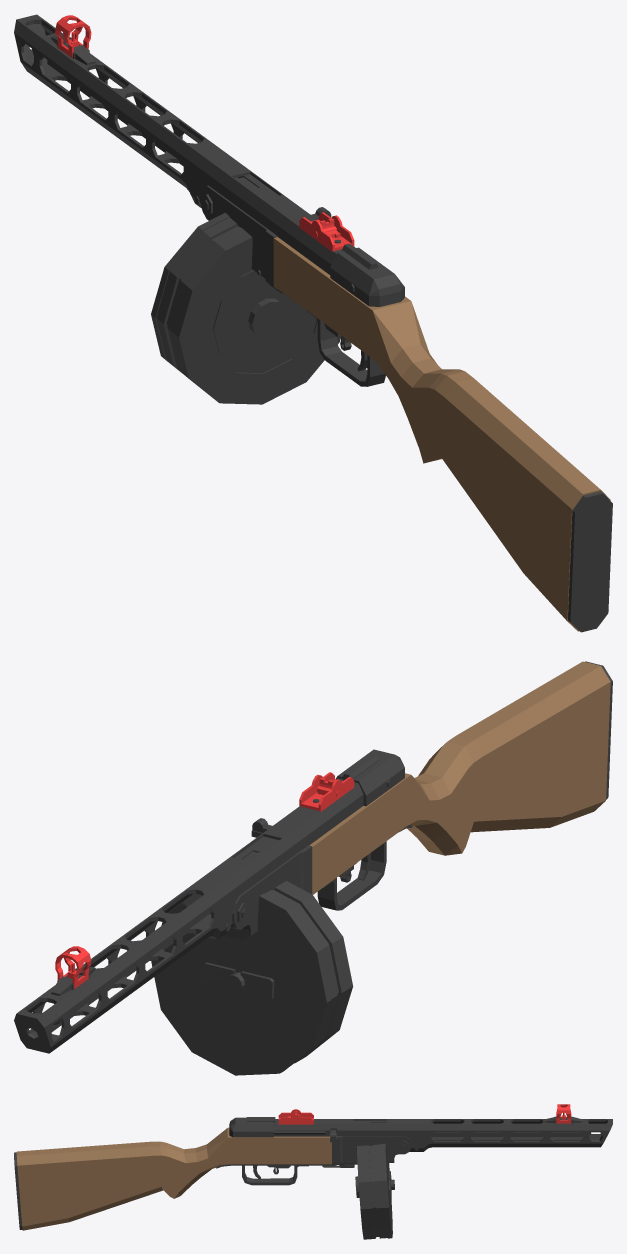
Rendered from subfusil_8.glb.
3 renders of one model, top to bottom at view 1: azimuth 30°, elevation 25°; view 2: azimuth 150°, elevation 25°; view 3: azimuth 270°, elevation 25°, orthographic. The views are drawn at different scales.
Visible parts, largest first — view 1: p30_accent, p15_paint, p0_paint, p48_paint, p45_paint, p9_paint, p35_paint, p12_paint, p33_del, p4_del; view 2: p30_accent, p12_paint, p0_paint, p15_paint, p9_paint, p45_paint, p35_paint, p13_paint, p33_del, p4_del; view 3: p30_accent, p0_paint, p15_paint, p9_paint, p45_paint, p12_paint, p1_paint, p35_paint, p33_del, p4_del, p48_paint, p27_paint (+2 smaller).
Part boxes in pixels (x1,y1,x2,y2): p30_accent: [273, 237, 610, 631]; p15_paint: [156, 217, 340, 404]; p0_paint: [14, 14, 355, 274]; p48_paint: [568, 491, 612, 632]; p45_paint: [330, 247, 404, 306]; p9_paint: [200, 185, 277, 289]; p35_paint: [306, 310, 385, 386]; p12_paint: [151, 212, 229, 373]; p33_del: [299, 212, 354, 251]; p4_del: [55, 15, 91, 58]; p30_accent: [309, 661, 610, 894]; p12_paint: [151, 893, 331, 1075]; p0_paint: [14, 778, 363, 1053]; p15_paint: [265, 881, 353, 1063]; p9_paint: [210, 845, 312, 940]; p45_paint: [335, 749, 404, 806]; p35_paint: [317, 841, 386, 910]; p13_paint: [201, 962, 274, 1001]; p33_del: [299, 772, 354, 811]; p4_del: [55, 946, 91, 989]; p30_accent: [16, 1127, 331, 1230]; p0_paint: [273, 1119, 612, 1151]; p15_paint: [355, 1144, 387, 1239]; p9_paint: [332, 1136, 411, 1164]; p45_paint: [229, 1117, 273, 1137]; p12_paint: [380, 1143, 394, 1238]; p1_paint: [431, 1132, 583, 1136]; p35_paint: [242, 1165, 308, 1185]; p33_del: [278, 1109, 313, 1124]; p4_del: [556, 1104, 571, 1123]; p48_paint: [14, 1152, 22, 1229]; p27_paint: [216, 1164, 332, 1168].
Size of the model in its own units: 0.1508 by 0.2015 by 0.843.
